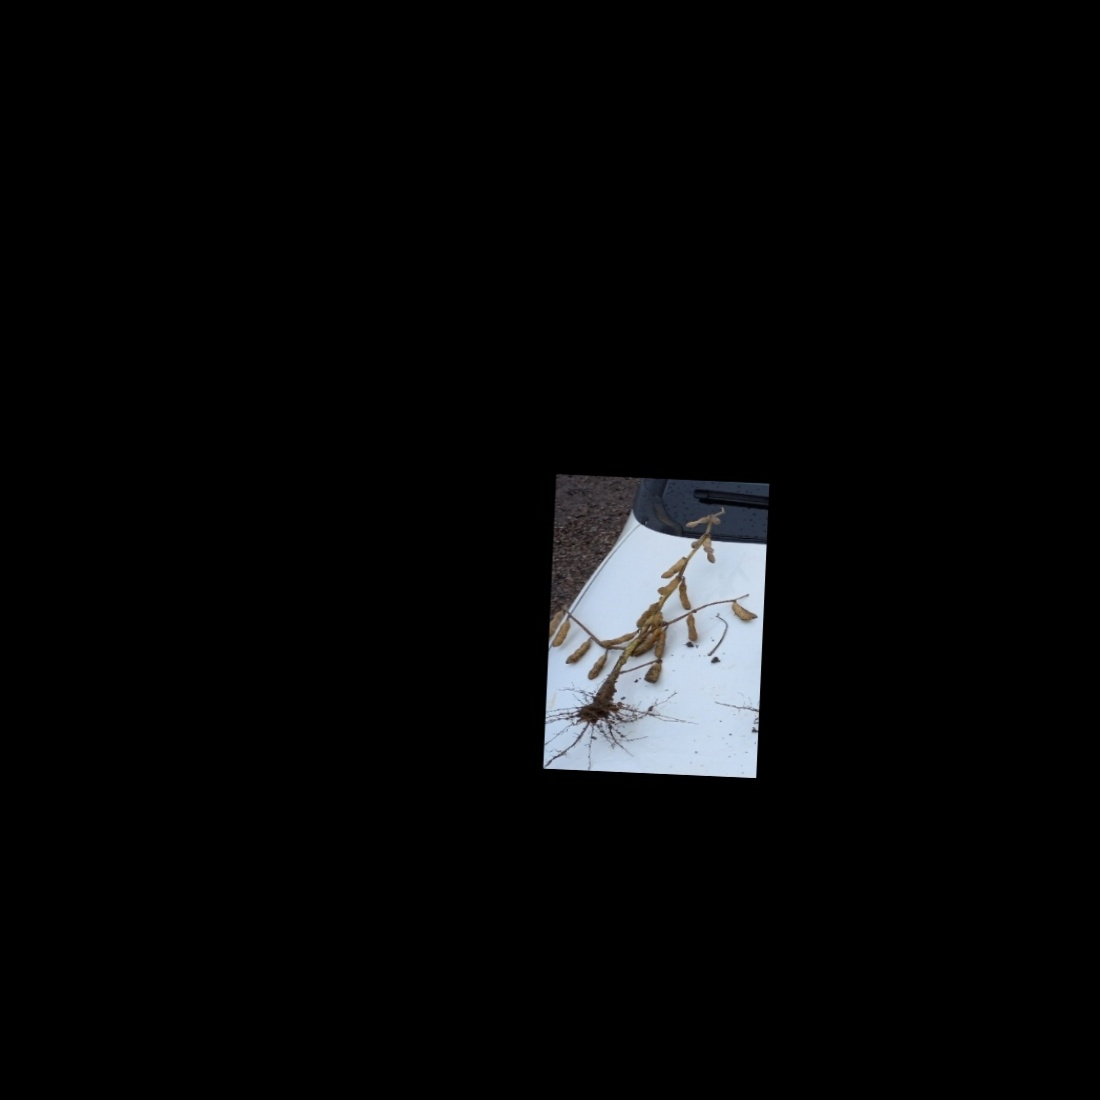pod: (551, 616, 577, 651), (584, 649, 610, 682), (564, 637, 592, 667), (658, 555, 686, 581), (600, 630, 636, 647), (676, 581, 694, 611), (701, 535, 718, 565), (655, 576, 680, 595), (653, 628, 668, 659), (684, 615, 700, 642), (683, 513, 709, 529)
soy: (543, 495, 764, 750)
